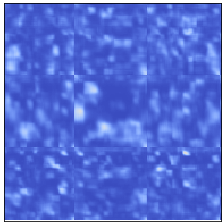action_path: (72, 75, 147, 149)
